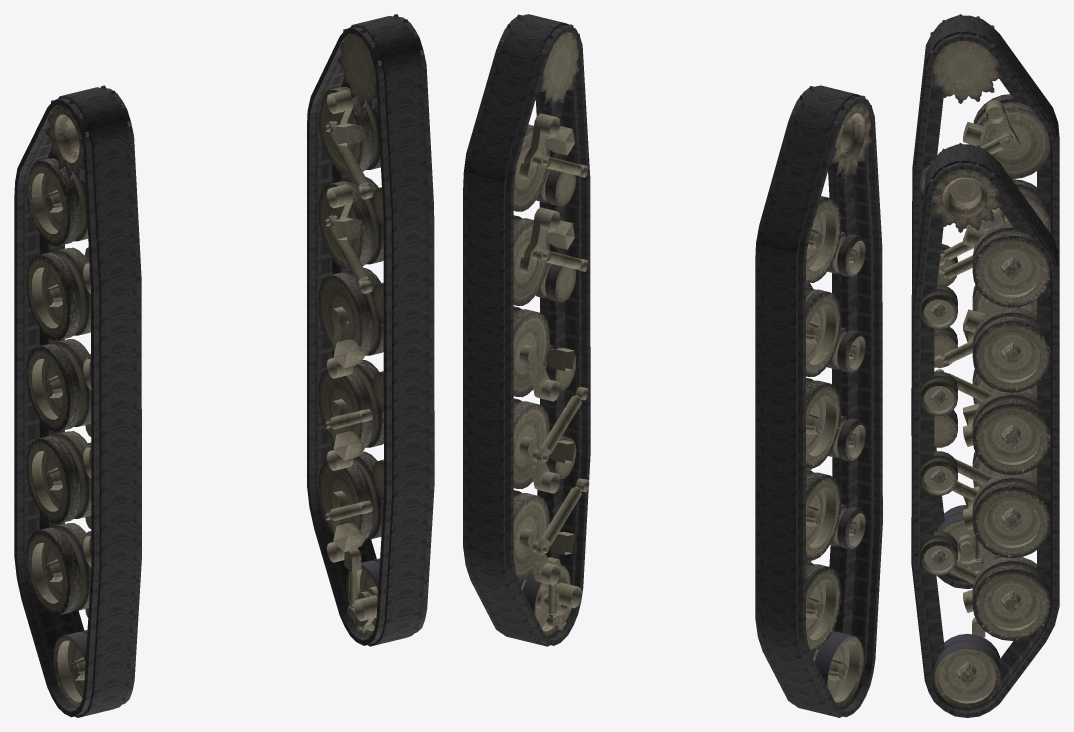
File: Chassis.glb
3 renders of one model, left to right at view 1: azimuth 30°, elevation 25°; view 2: azimuth 150°, elevation 25°; view 3: azimuth 270°, elevation 25°, orthographic. The views are drawn at different scales.
Visible parts, largest first — view 1: set_0_group_0, set_1_group_0, set_3_group_0, set_2_group_0; view 2: set_0_group_0, set_1_group_0, set_3_group_0, set_2_group_0; view 3: set_3_group_0, set_1_group_0, set_2_group_0, set_0_group_0.
Boxes of the visible parts, x1,y1,x2,y2 form: set_0_group_0: [14, 87, 141, 717]; set_1_group_0: [307, 16, 434, 646]; set_3_group_0: [318, 14, 423, 636]; set_2_group_0: [26, 85, 133, 707]; set_0_group_0: [755, 86, 882, 717]; set_1_group_0: [463, 14, 590, 646]; set_3_group_0: [499, 14, 589, 636]; set_2_group_0: [791, 85, 871, 708]; set_3_group_0: [920, 143, 1050, 708]; set_1_group_0: [911, 144, 1059, 717]; set_2_group_0: [921, 14, 1050, 578]; set_0_group_0: [911, 15, 1059, 588].
Size of the model in its own units: 2.91 by 5.03 by 1.21.
4 materials, 4 textured.
